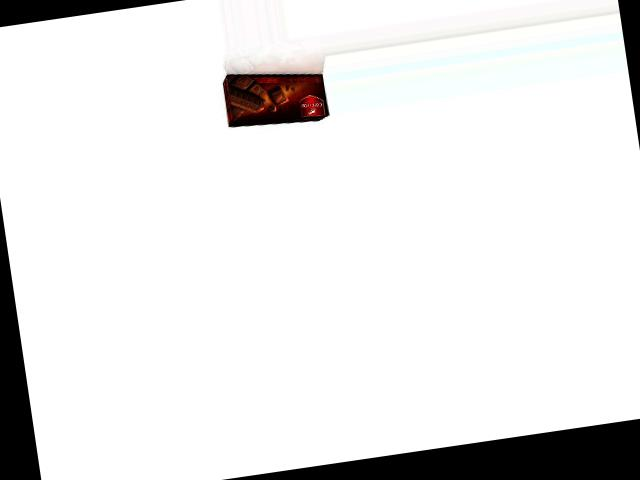chocolate: (222, 59, 330, 134)
